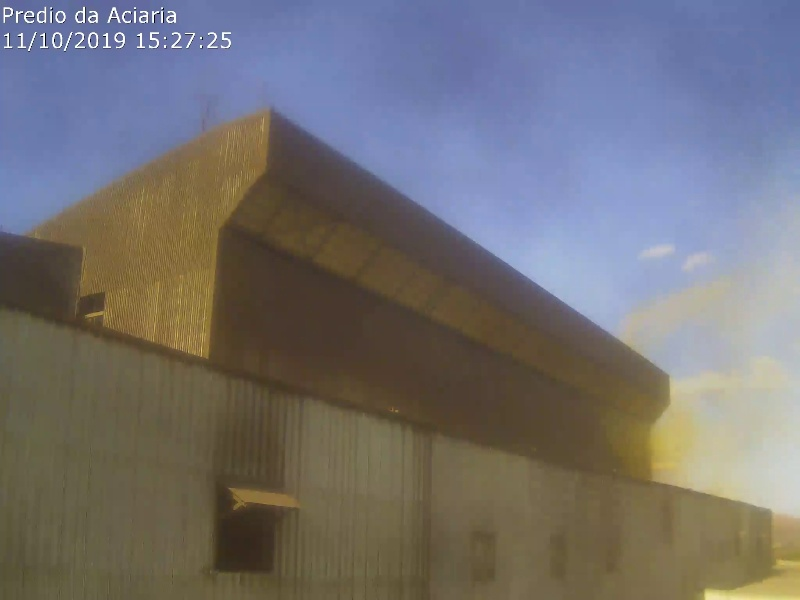bom: (268, 60, 591, 371), (9, 10, 273, 227)
ruim: (618, 244, 792, 458)
